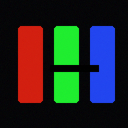3 line_h: (50, 65, 98, 71)
